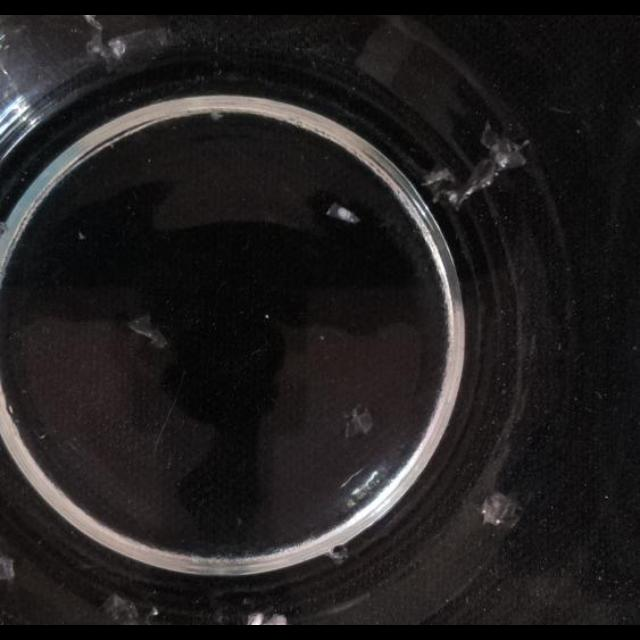Fibre: (438, 126, 528, 210), (83, 21, 123, 67), (127, 314, 169, 350), (481, 493, 521, 529), (342, 404, 374, 440), (102, 594, 140, 624), (247, 608, 290, 626), (210, 111, 224, 121)
microbeads: (77, 230, 86, 240)
